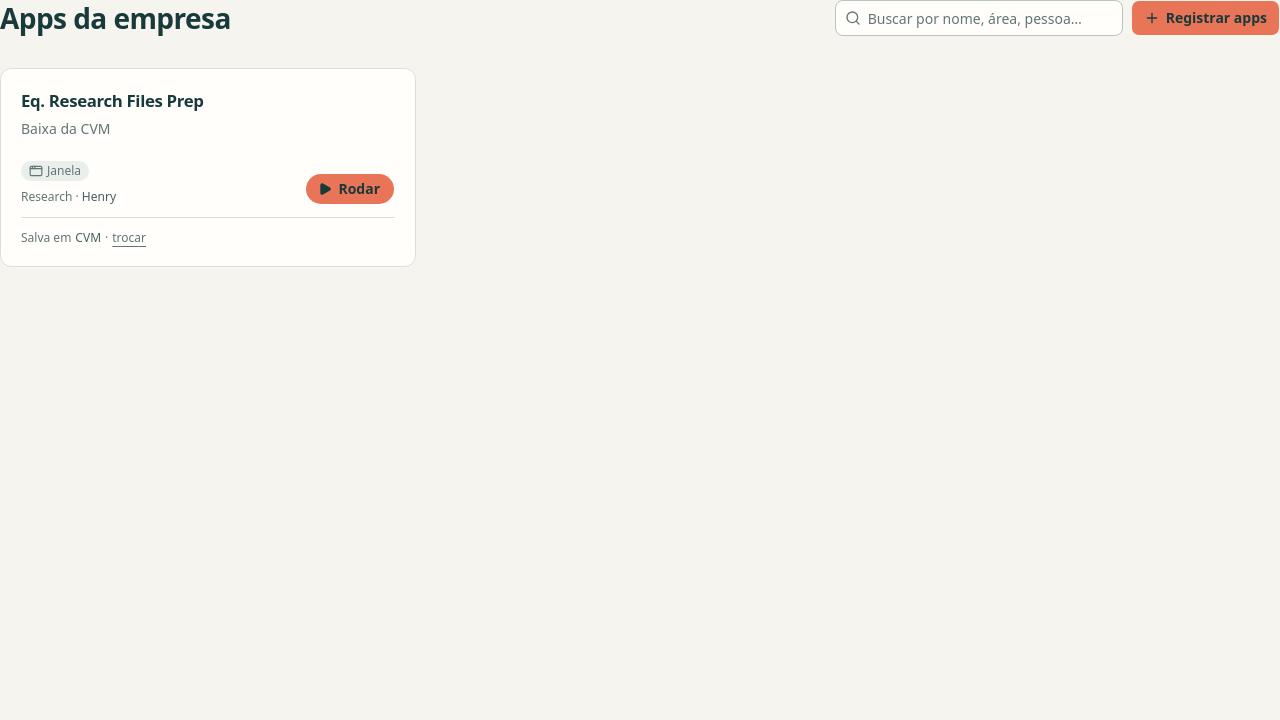
card shows where the files go, and trocar asks again
Click the button "trocar" at (129, 238), box [112,230,146,246]
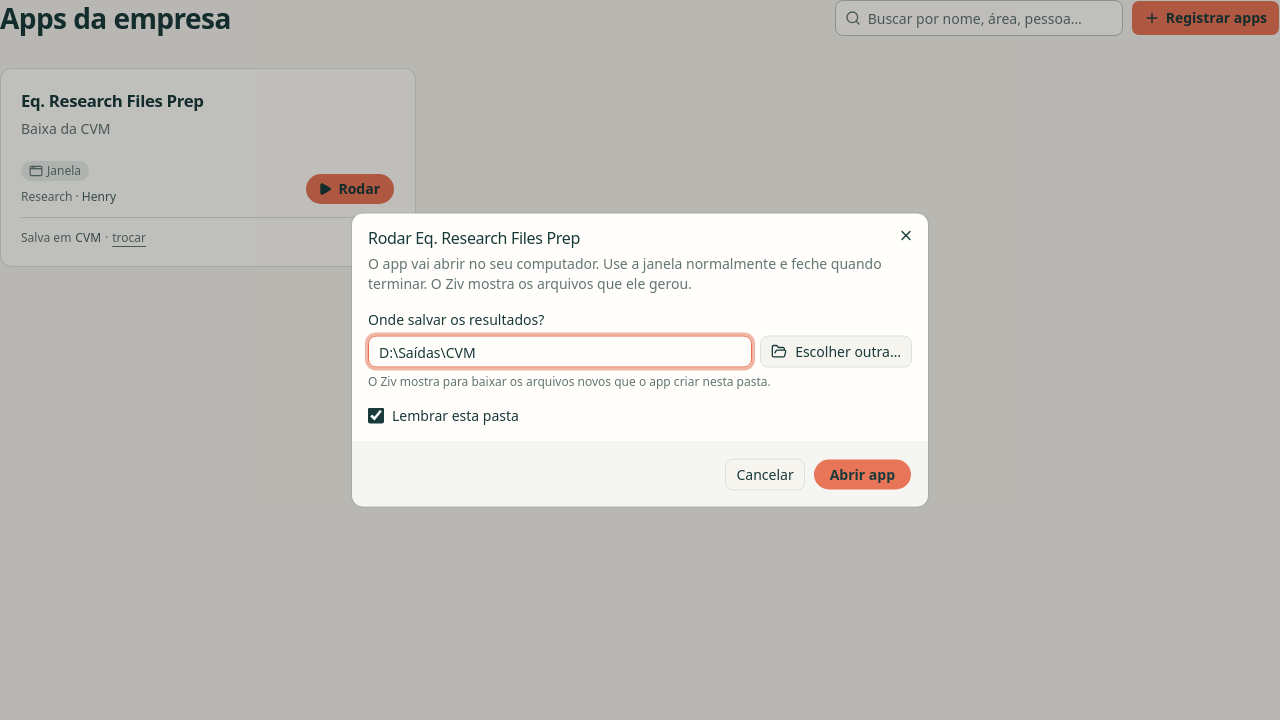
Check: the field labelled "Onde salvar os resultados?" holds "D:\\Saídas\\CVM", box [368,336,752,368]
